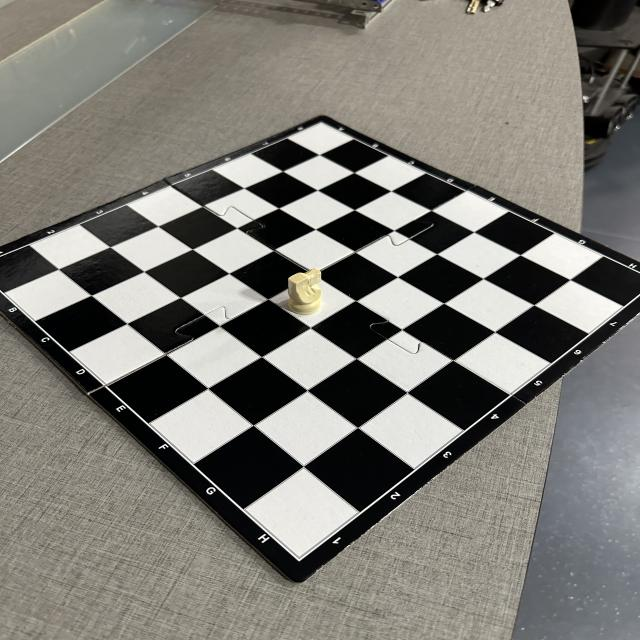White-Knight: (289, 269, 322, 315)
